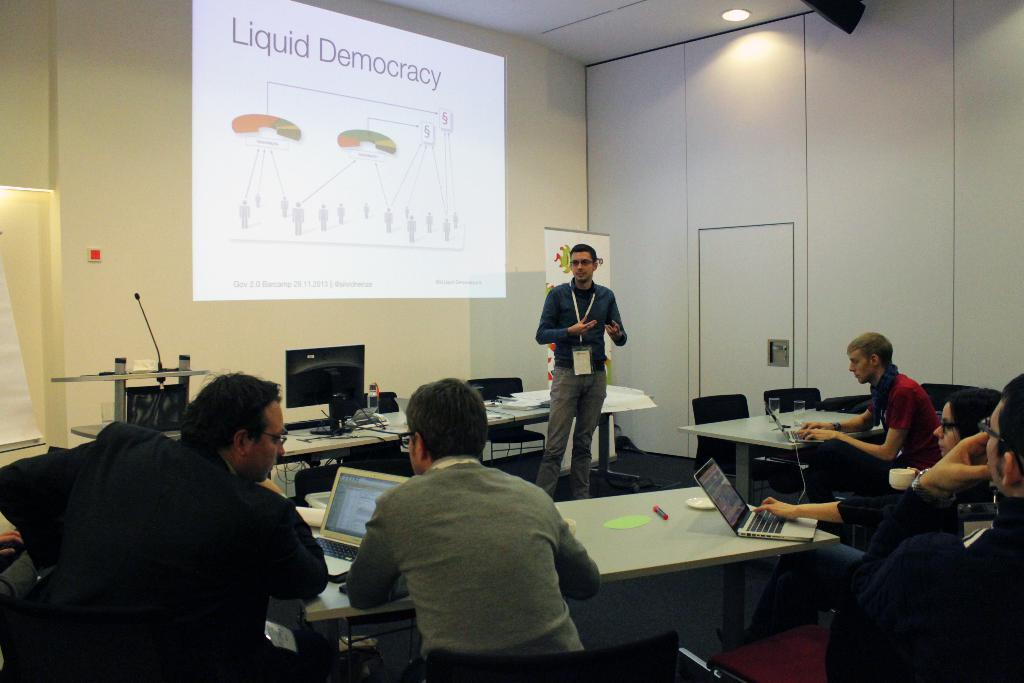Computer-monitor: (283, 343, 366, 435)
Laptop: (308, 465, 410, 579), (692, 456, 818, 542)
